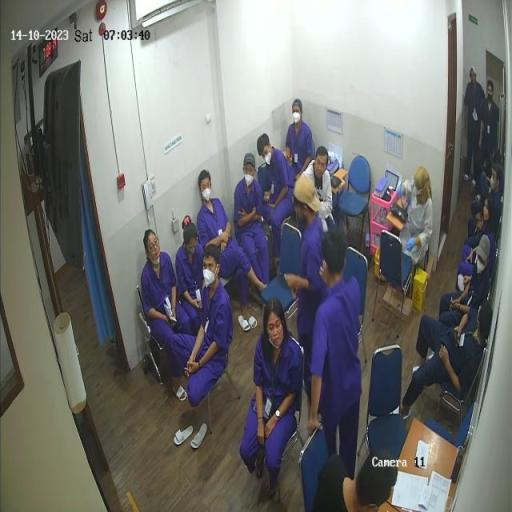person: (308, 232, 365, 487), (240, 297, 303, 500), (391, 302, 494, 420), (198, 172, 268, 331), (172, 244, 235, 408), (143, 230, 194, 403), (312, 451, 398, 512), (440, 236, 493, 333), (258, 135, 294, 276), (236, 154, 271, 290), (398, 168, 435, 279), (457, 197, 496, 295), (176, 218, 208, 337), (286, 100, 315, 208), (303, 147, 336, 233), (469, 162, 502, 243), (478, 81, 500, 202), (465, 68, 486, 188), (482, 148, 504, 203)
